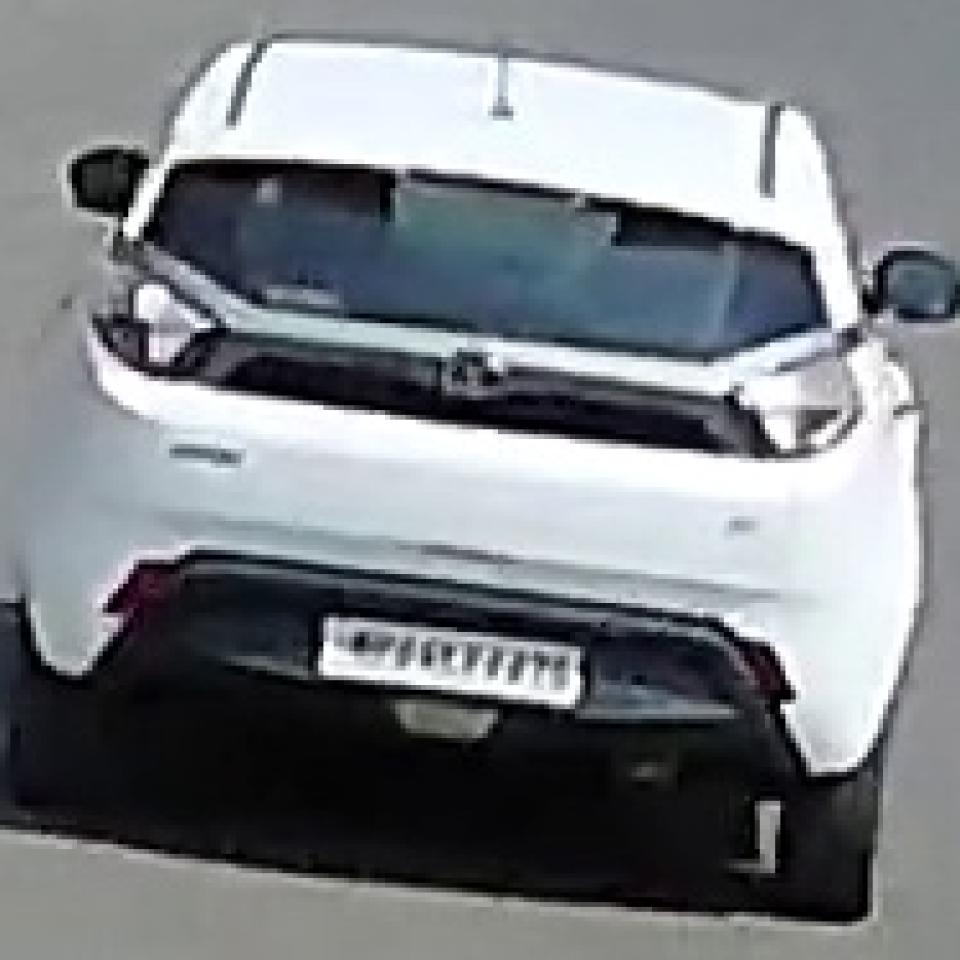tail_light: (724, 353, 866, 462), (102, 279, 223, 379)
